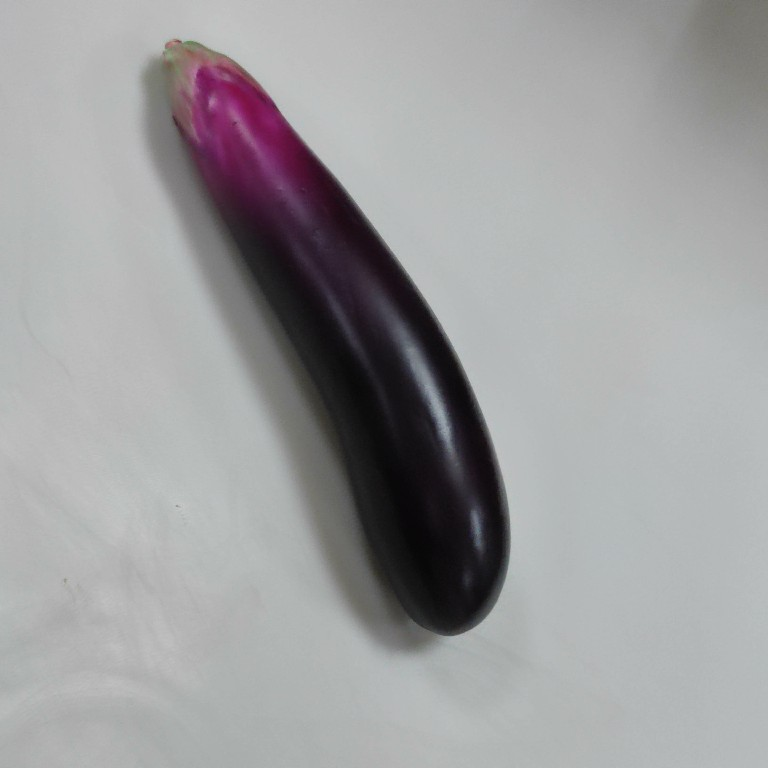fruit_eggplant: (158, 34, 516, 639)
